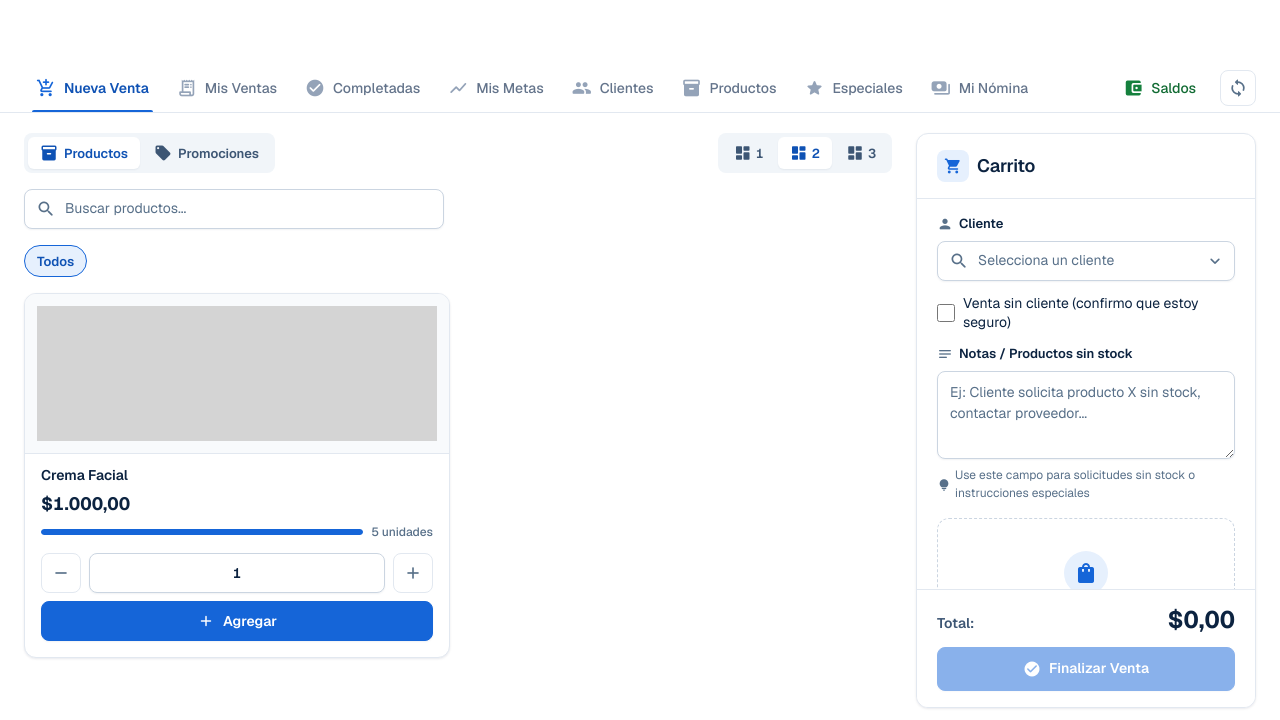
Test: Nueva Venta: el refresco no cambia la pantalla por "Cargando..." ni borra lo escrito
Expected: the heading "Crema Facial" is shown, [41, 466, 128, 485]
Type "crema" into the field labelled "Buscar productos". click: (234, 209)
box: [24, 189, 444, 229]
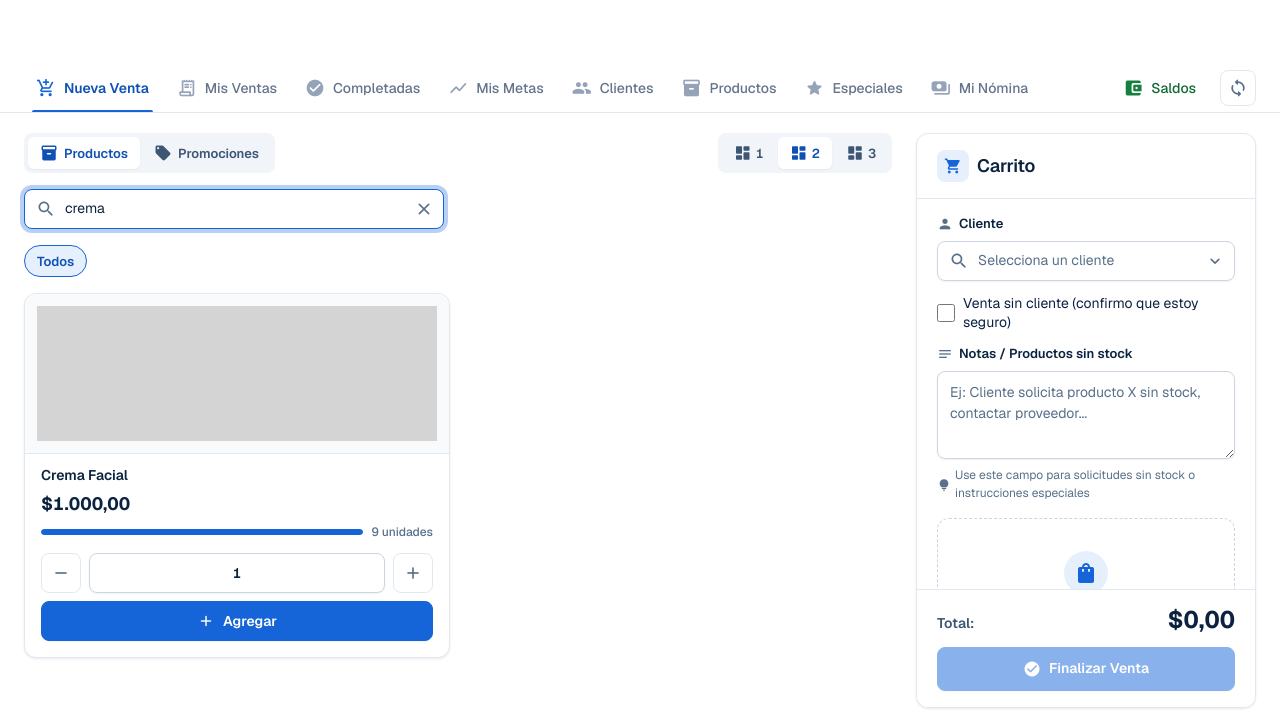
Result: the text "9 unidades" is shown at [371, 523, 433, 541]
